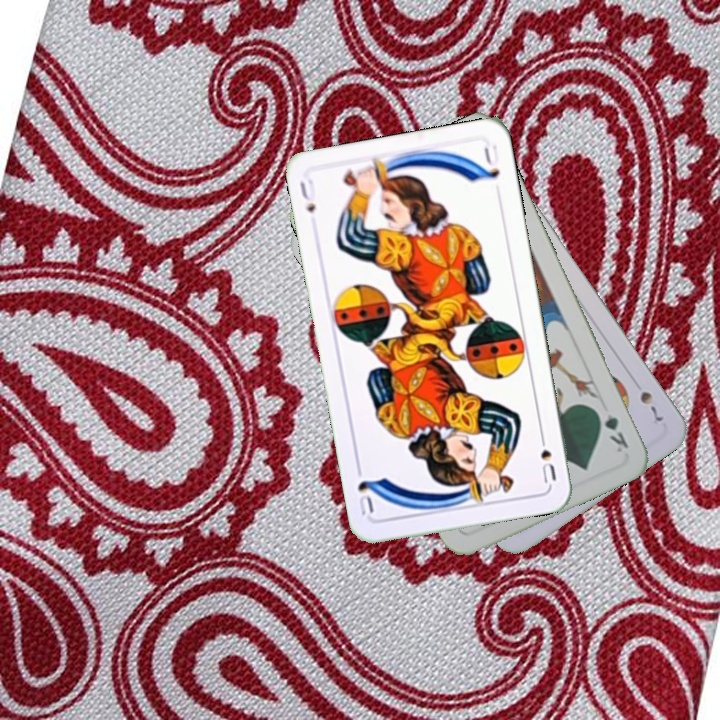GK: (591, 404, 632, 455)
S7: (635, 387, 666, 428)
SU: (535, 428, 559, 486), (295, 175, 319, 216)
